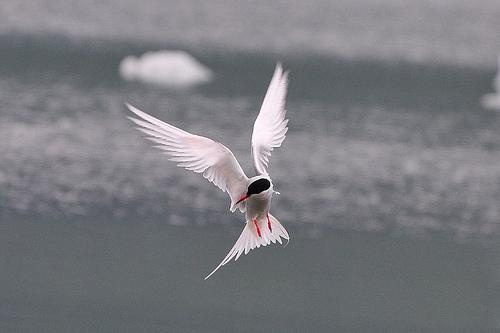bird: (123, 60, 295, 279)
